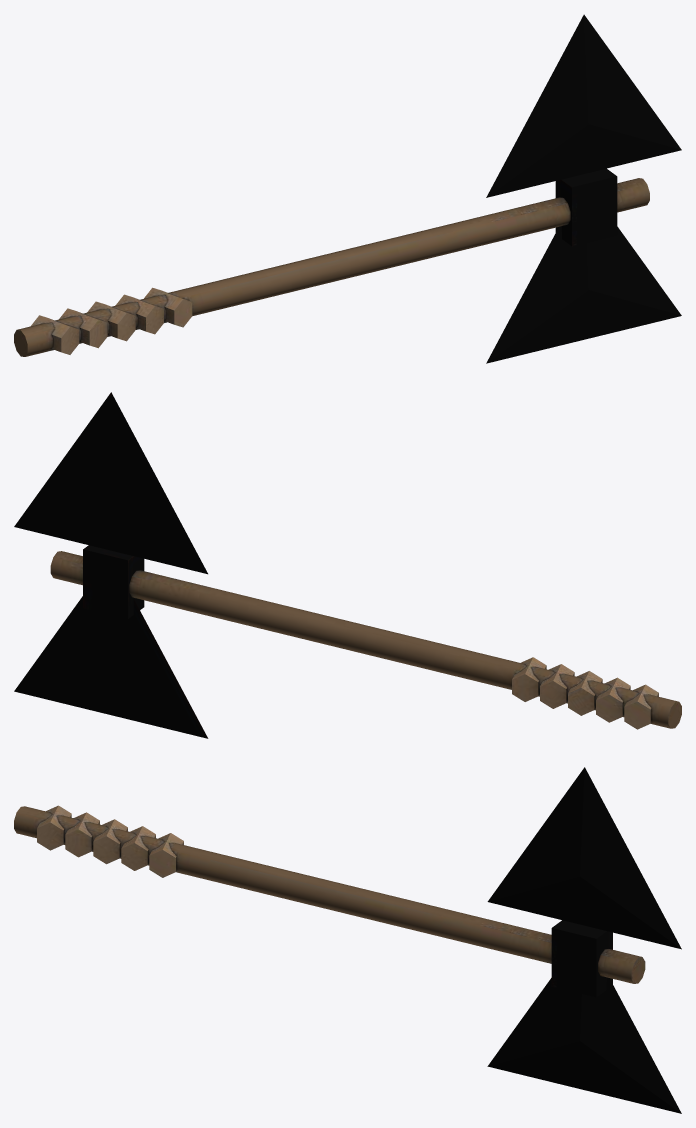
The model's file is axe.glb.
The picture shows the model from 3 angles, top to bottom: view 1: azimuth 30°, elevation 25°; view 2: azimuth 150°, elevation 25°; view 3: azimuth 330°, elevation 25°; orthographic projection.
Visible parts, largest first — view 1: blade-1; view 2: blade-1; view 3: blade-1.
Part boxes in pixels (<box>): blade-1: <box>14,14,681,363</box>; blade-1: <box>14,392,681,738</box>; blade-1: <box>14,767,681,1113</box>.
Size of the model in its own units: 1.17 by 0.55 by 0.0731.
Materials: 1 (1 with a texture image).
